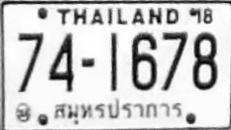1: (110, 31, 117, 91)
4: (48, 31, 74, 91)
6: (130, 32, 156, 90)
7: (17, 32, 44, 92), (161, 31, 186, 90)
8: (191, 31, 216, 89)
SPK: (51, 96, 186, 126)
